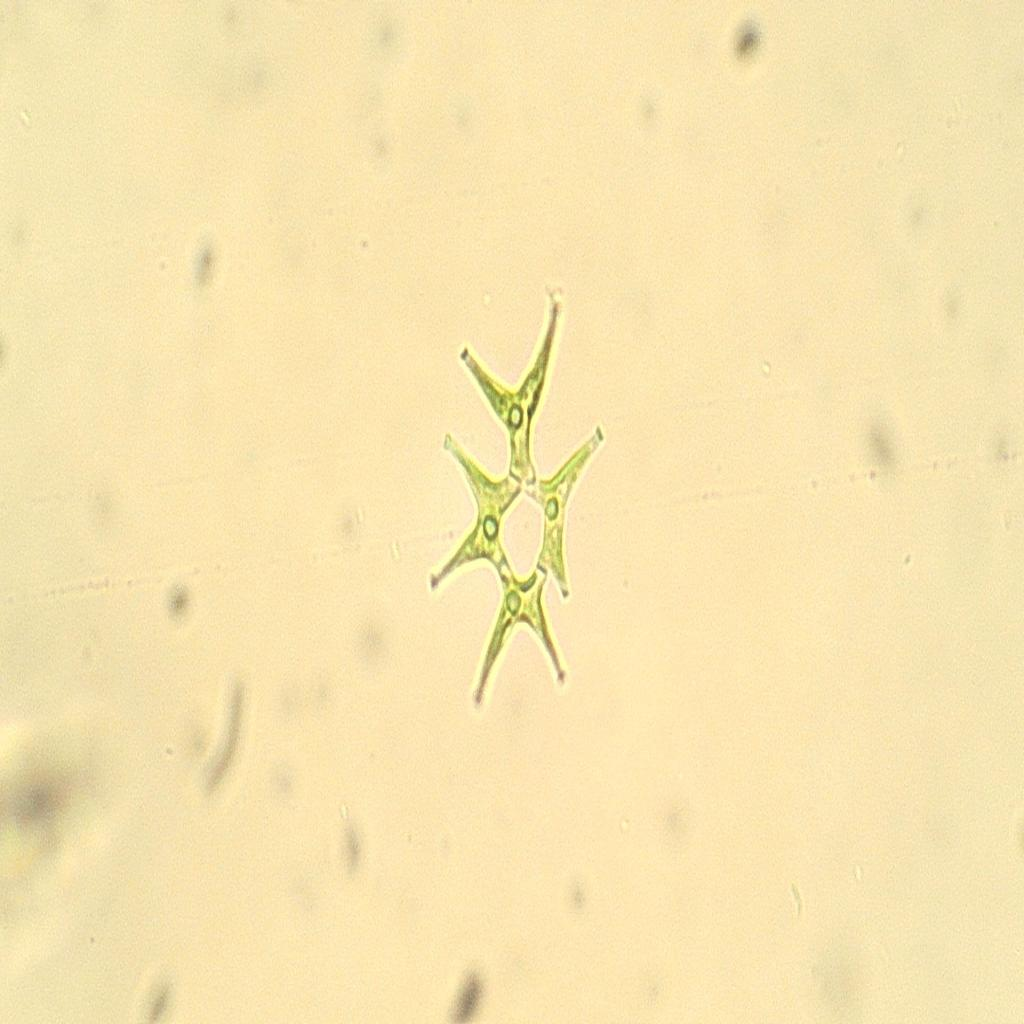Pediastrum_CT: (424, 289, 609, 735)
